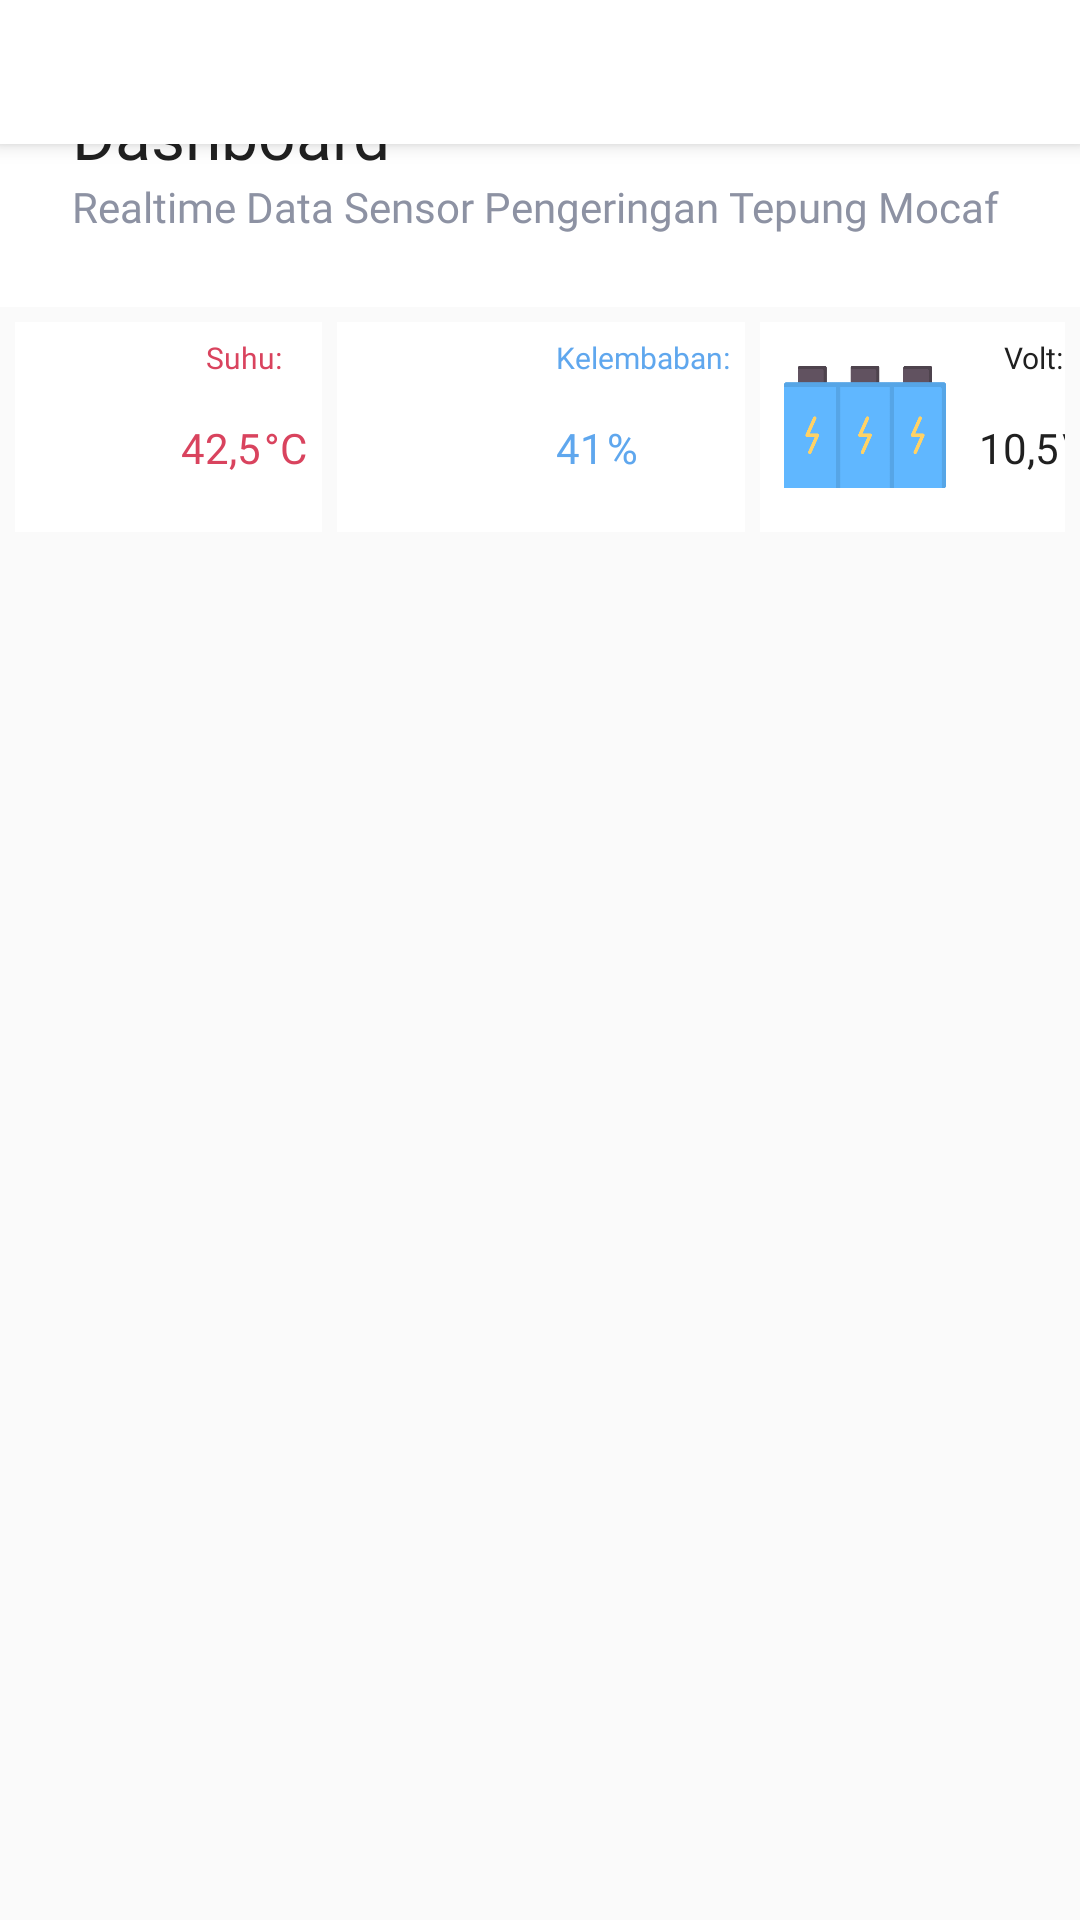

Where to tap for icons on this 1080 × 1920 app screen, as (x=x, y=y):
energystorage: (x=865, y=427)
